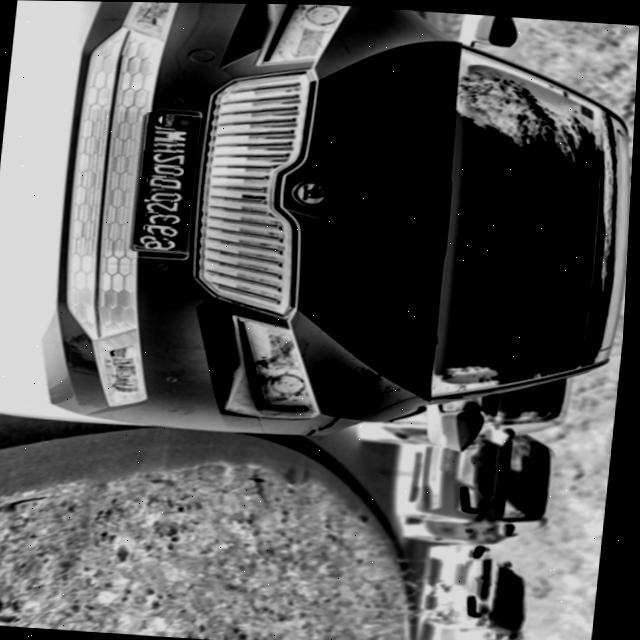0: (152, 164, 184, 176)
2: (145, 199, 183, 214), (149, 151, 189, 165)
3: (146, 211, 183, 226)
5: (145, 225, 181, 238)
6: (145, 237, 180, 250)
D: (148, 176, 186, 189)
H: (150, 139, 188, 153)
IND: (161, 116, 194, 130)
Indian_registered: (135, 112, 200, 252)
M: (151, 127, 193, 142)
V: (147, 187, 186, 201)
